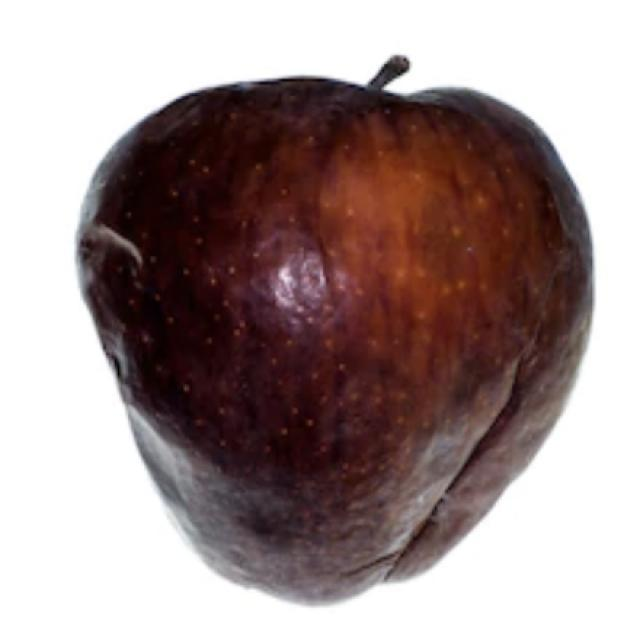Rotten: (72, 73, 608, 597)
